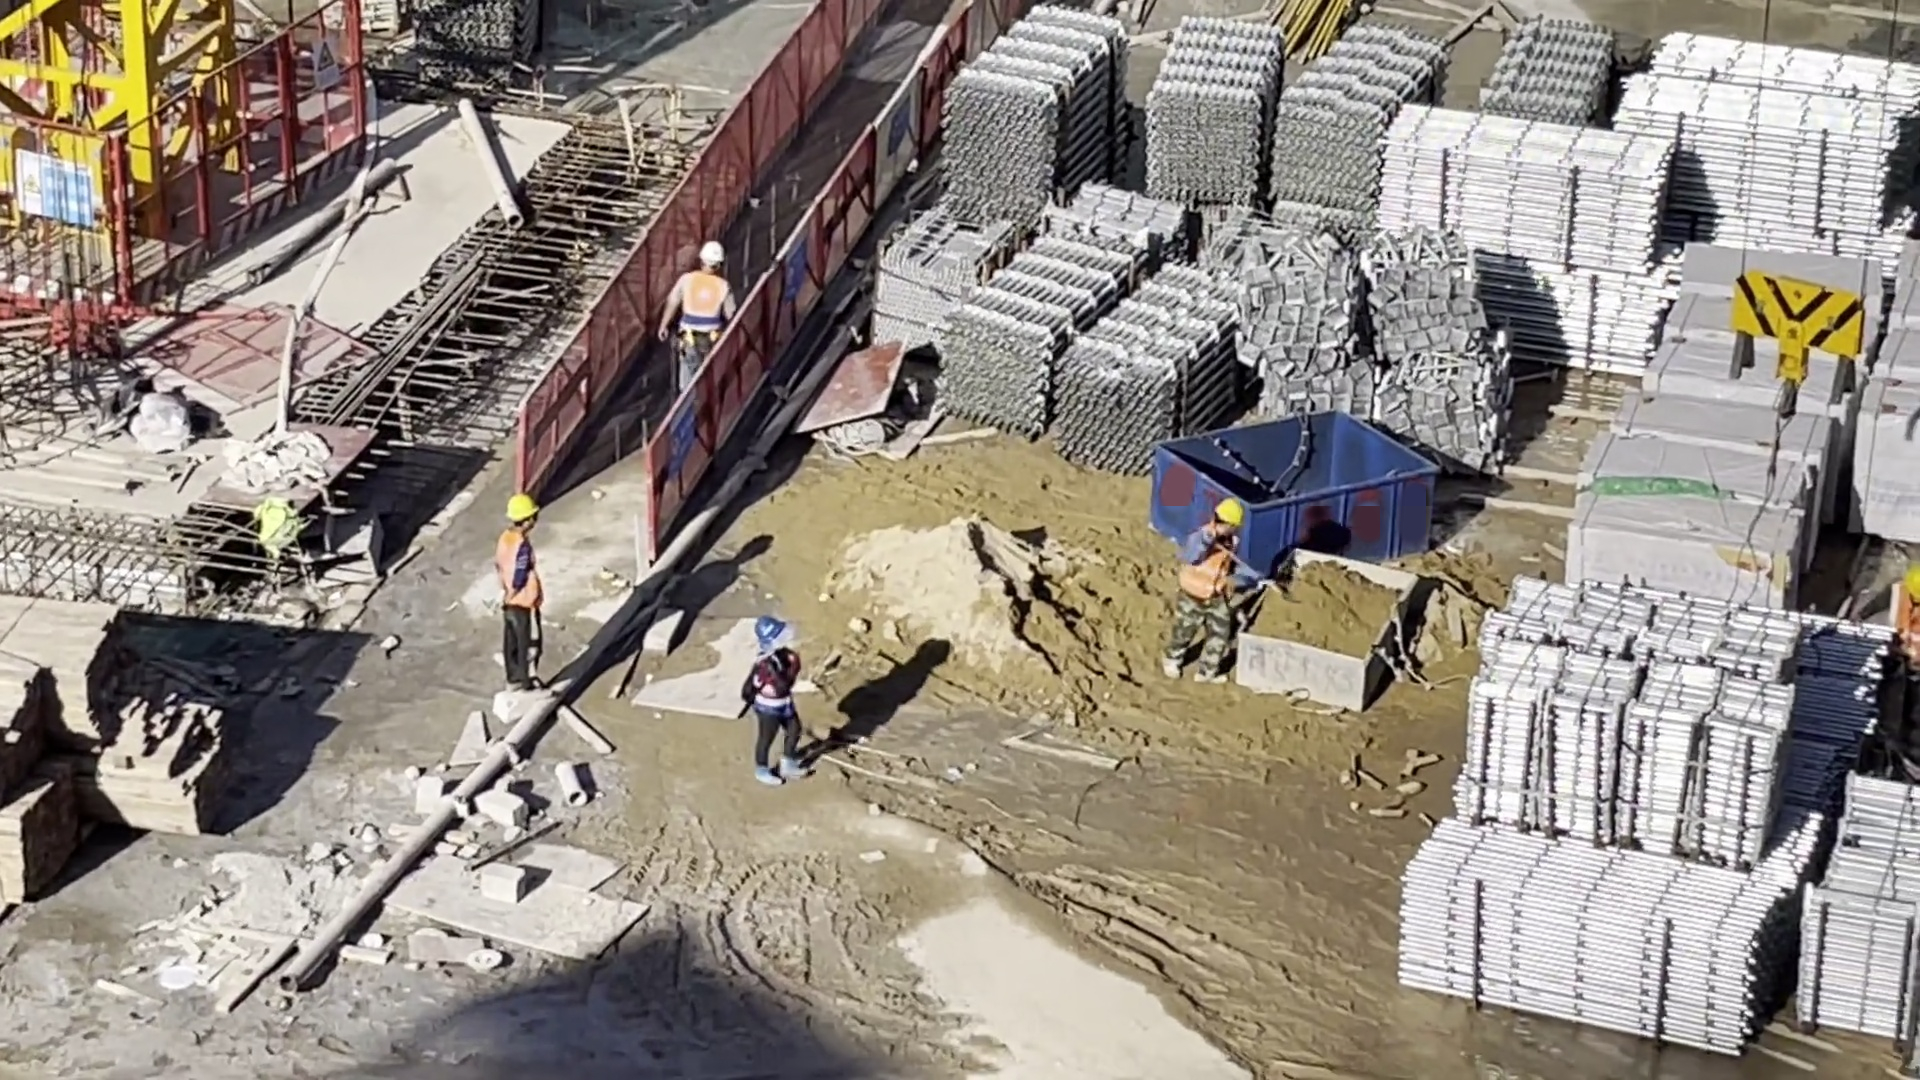fence: (514, 1, 970, 558)
helmet: (1203, 480, 1245, 532), (690, 234, 737, 275), (505, 485, 545, 533), (749, 610, 785, 646)
hook: (1712, 250, 1885, 430)
hopper: (1148, 399, 1453, 572), (1235, 542, 1424, 711)
person: (1143, 489, 1255, 686), (488, 493, 564, 690), (745, 618, 819, 782), (664, 235, 744, 369)
scaffold: (1392, 564, 1920, 1045), (1387, 102, 1667, 383), (930, 232, 1220, 469), (1613, 28, 1920, 250), (943, 1, 1112, 232), (1269, 18, 1436, 215), (1139, 5, 1270, 205), (1489, 1, 1607, 123)
vest: (485, 517, 543, 616), (672, 271, 739, 336), (1180, 526, 1238, 598)
wood: (1, 580, 221, 895)
